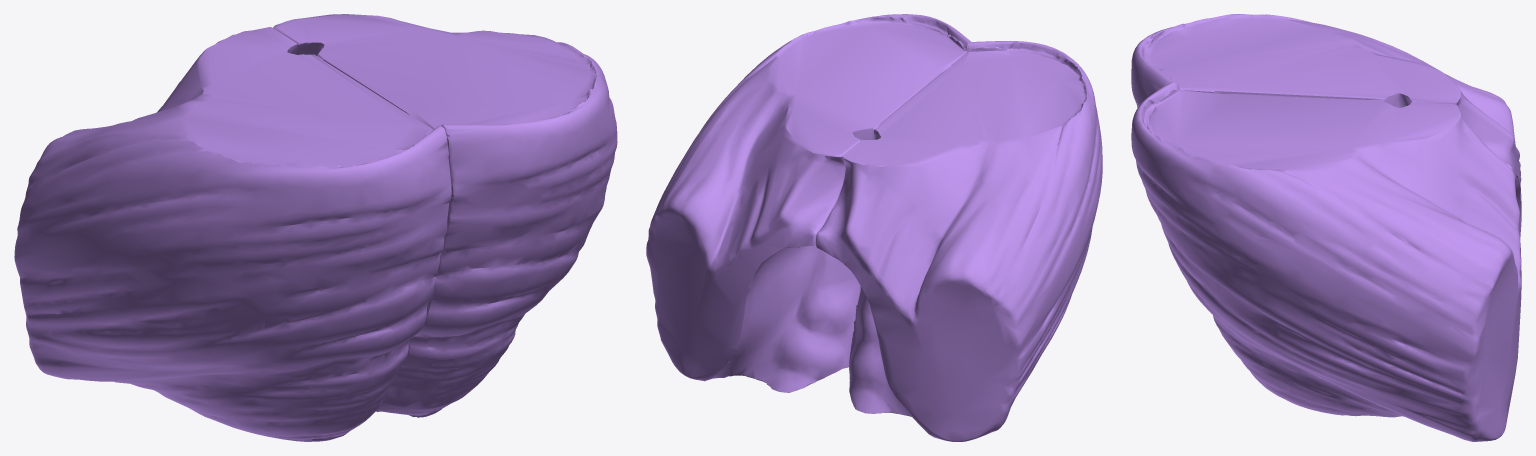
The model's file is pons.glb.
3 views of the same model, side by side, from view 1: azimuth 30°, elevation 25°; view 2: azimuth 150°, elevation 25°; view 3: azimuth 270°, elevation 25° (orthographic). The views are drawn at different scales.
Parts seen in each view (by area): view 1: grp1; view 2: grp1; view 3: grp1.
Part boxes in pixels (bbox=[...]): grp1: bbox=[14, 14, 617, 441]; grp1: bbox=[646, 14, 1102, 441]; grp1: bbox=[1131, 14, 1521, 441].
Size of the model in its own units: 0.0422 by 0.0286 by 0.0344.
